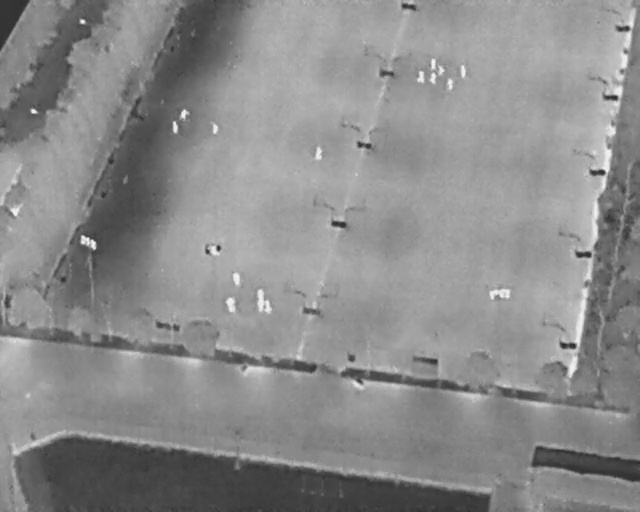Person: (225, 297, 236, 313), (180, 108, 190, 122), (233, 272, 241, 287), (264, 299, 272, 314), (417, 70, 425, 84), (257, 288, 265, 302), (459, 65, 467, 78), (256, 299, 264, 312), (315, 146, 322, 160), (429, 72, 437, 84), (172, 121, 179, 134), (430, 58, 437, 71), (447, 78, 454, 91), (437, 65, 445, 76), (212, 123, 219, 135)
